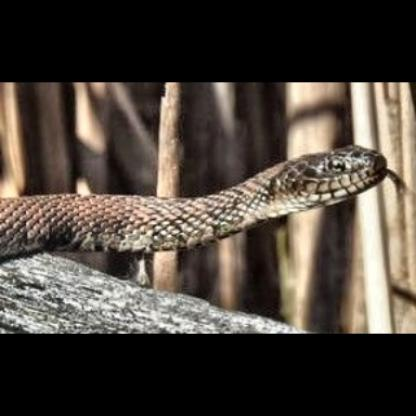Snake: (0, 130, 394, 260)
